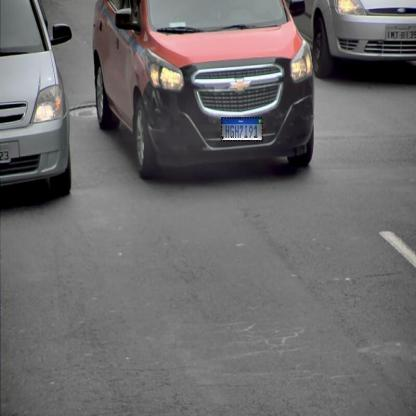PlacaM: (221, 117, 263, 142)
